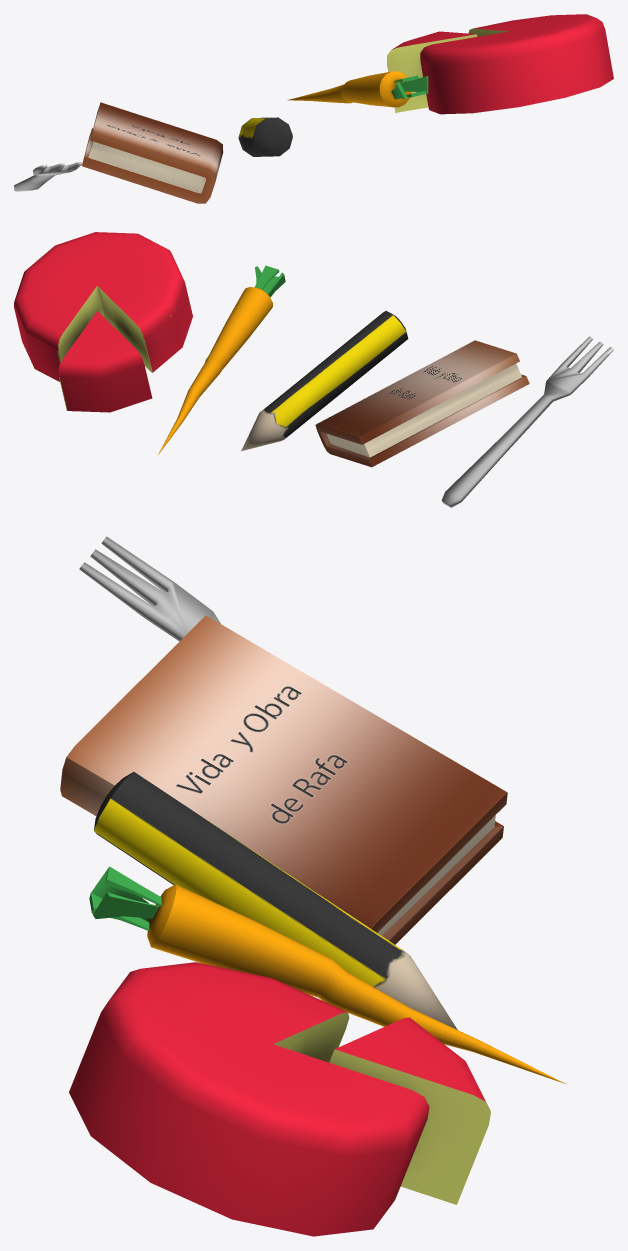
Rendered from objetos.FBX.
3 renders of one model, top to bottom at view 1: azimuth 30°, elevation 25°; view 2: azimuth 150°, elevation 25°; view 3: azimuth 270°, elevation 25°, orthographic. The views are drawn at different scales.
Parts seen in each view (by area): view 1: queso001, libro, zanahoria, lapiz, tenedor; view 2: queso001, libro, lapiz, zanahoria, tenedor; view 3: queso001, libro, lapiz, zanahoria, tenedor.
Boxes of the visible parts, <box> form: queso001: <box>387,14,613,114</box>; libro: <box>82,102,223,203</box>; zanahoria: <box>287,71,428,107</box>; lapiz: <box>238,117,292,156</box>; tenedor: <box>14,162,81,191</box>; queso001: <box>14,232,192,412</box>; libro: <box>315,340,529,467</box>; lapiz: <box>241,310,408,451</box>; zanahoria: <box>157,265,285,456</box>; tenedor: <box>441,336,613,507</box>; queso001: <box>69,962,490,1236</box>; libro: <box>60,615,507,944</box>; lapiz: <box>94,772,457,1029</box>; zanahoria: <box>89,866,566,1084</box>; tenedor: <box>79,536,220,641</box>.
Bounding box in the file's own units: 16.97 × 3.3 × 6.79.
